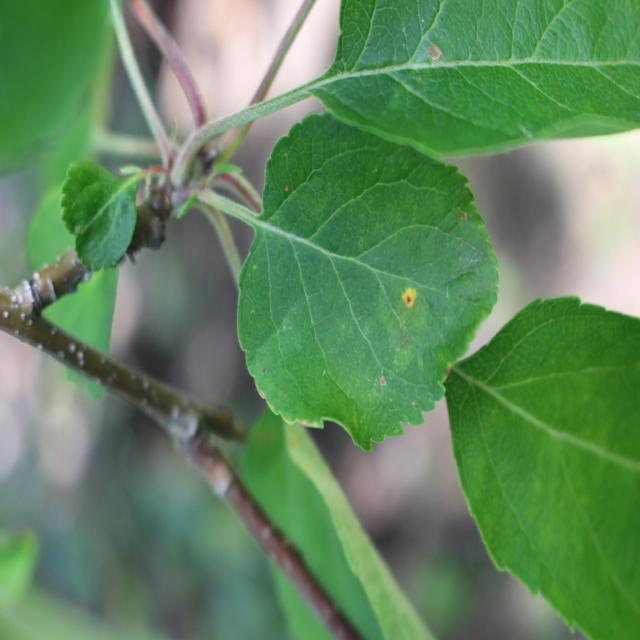rust: (234, 110, 501, 452)
